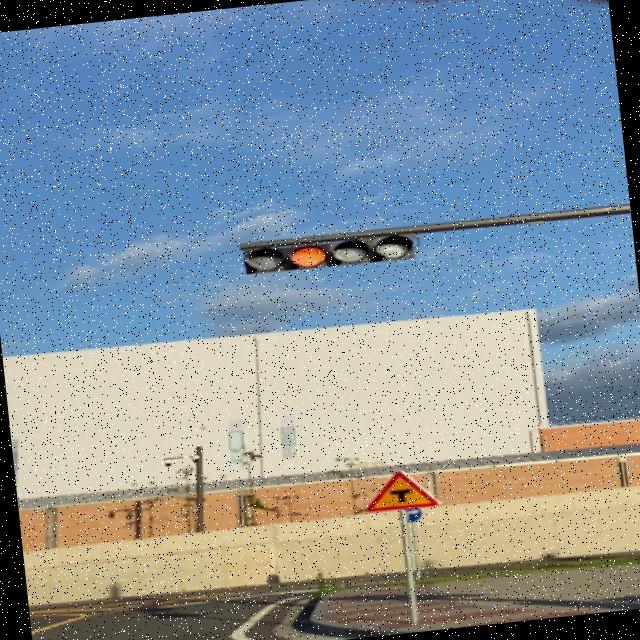yellow_light: (240, 228, 417, 274)
